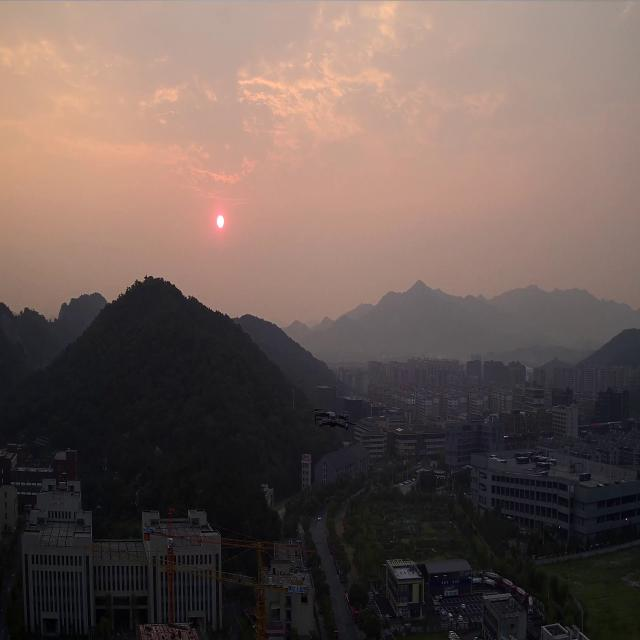UAV: (312, 407, 357, 432)
